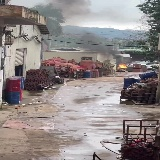fire: (119, 64, 127, 68)
